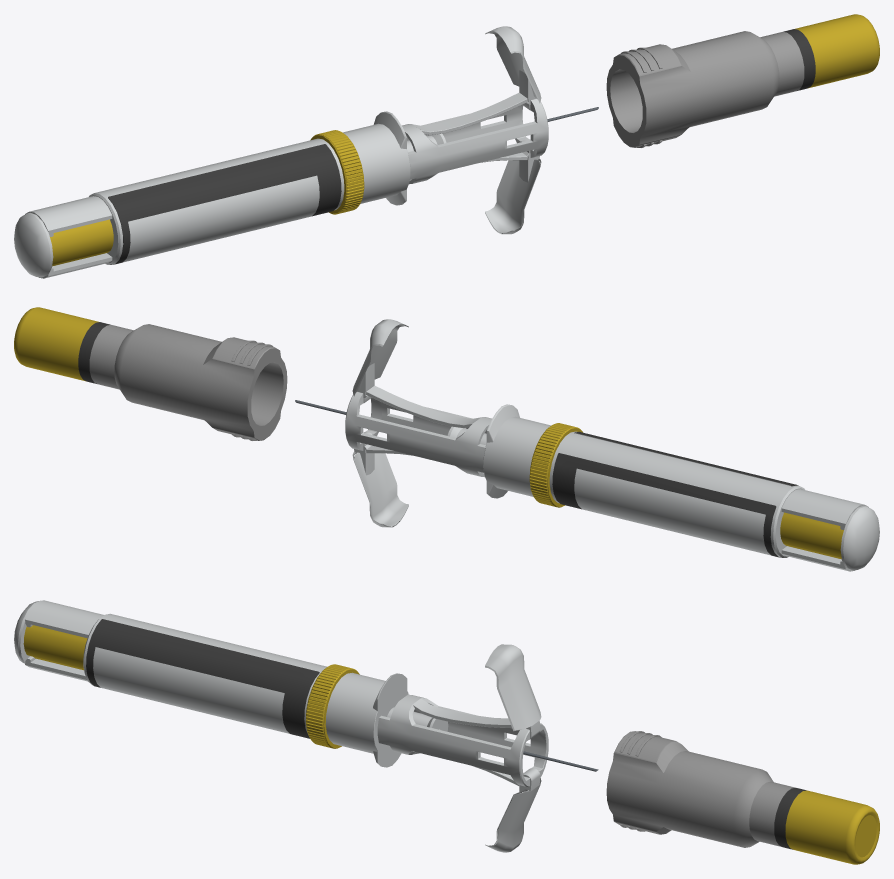
The model's file is XYZ.fbx.
The picture shows the model from 3 angles, top to bottom: view 1: azimuth 30°, elevation 25°; view 2: azimuth 150°, elevation 25°; view 3: azimuth 330°, elevation 25°; orthographic projection.
Parts seen in each view (by area): view 1: Adrenalin; view 2: Adrenalin; view 3: Adrenalin.
Part boxes in pixels (x1,y1,x2,y2): Adrenalin: (14, 14, 879, 278); Adrenalin: (14, 307, 879, 571); Adrenalin: (14, 600, 879, 864).
Bounding box in the file's own units: 15.33 × 3.5 × 1.29.
